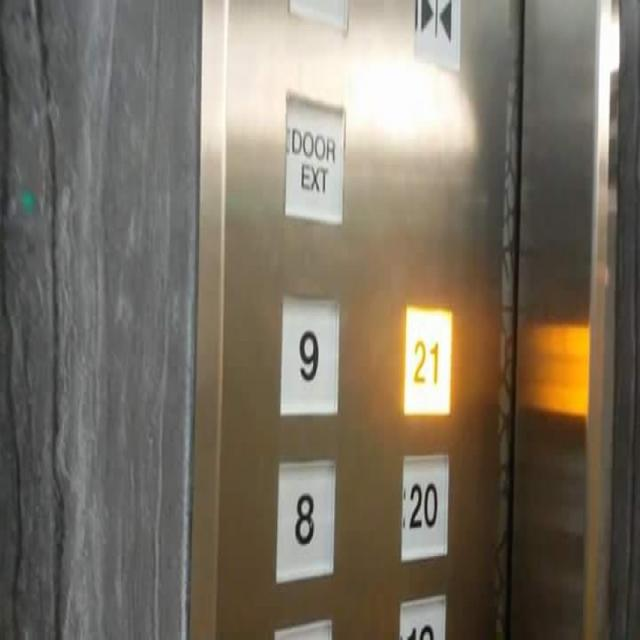20: (396, 448, 450, 565)
21: (400, 303, 453, 421)
8: (273, 455, 336, 585)
9: (276, 288, 341, 420)
close: (410, 0, 460, 75)
text_door ext: (281, 81, 348, 228)
